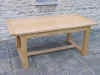obstacle: (8, 15, 95, 67)
